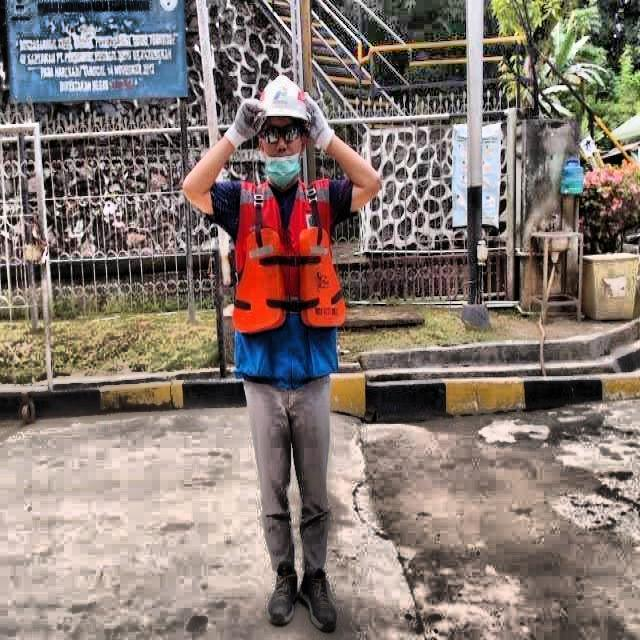safety_helmet: (259, 74, 309, 125)
safety_jacket: (232, 176, 345, 379)
